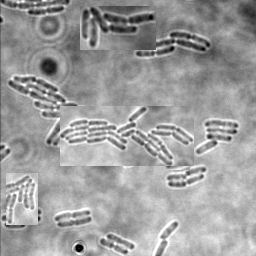Dividing: (167, 175, 204, 189), (99, 238, 128, 255), (54, 209, 90, 222), (56, 217, 92, 228), (27, 7, 64, 17)
Microcolony: (60, 106, 194, 166), (7, 76, 98, 147), (80, 6, 156, 50), (135, 32, 211, 57), (6, 173, 38, 225), (195, 120, 238, 155)
Rod: (106, 233, 135, 251), (157, 222, 178, 240), (165, 158, 190, 170), (184, 167, 206, 177), (166, 174, 187, 183)
